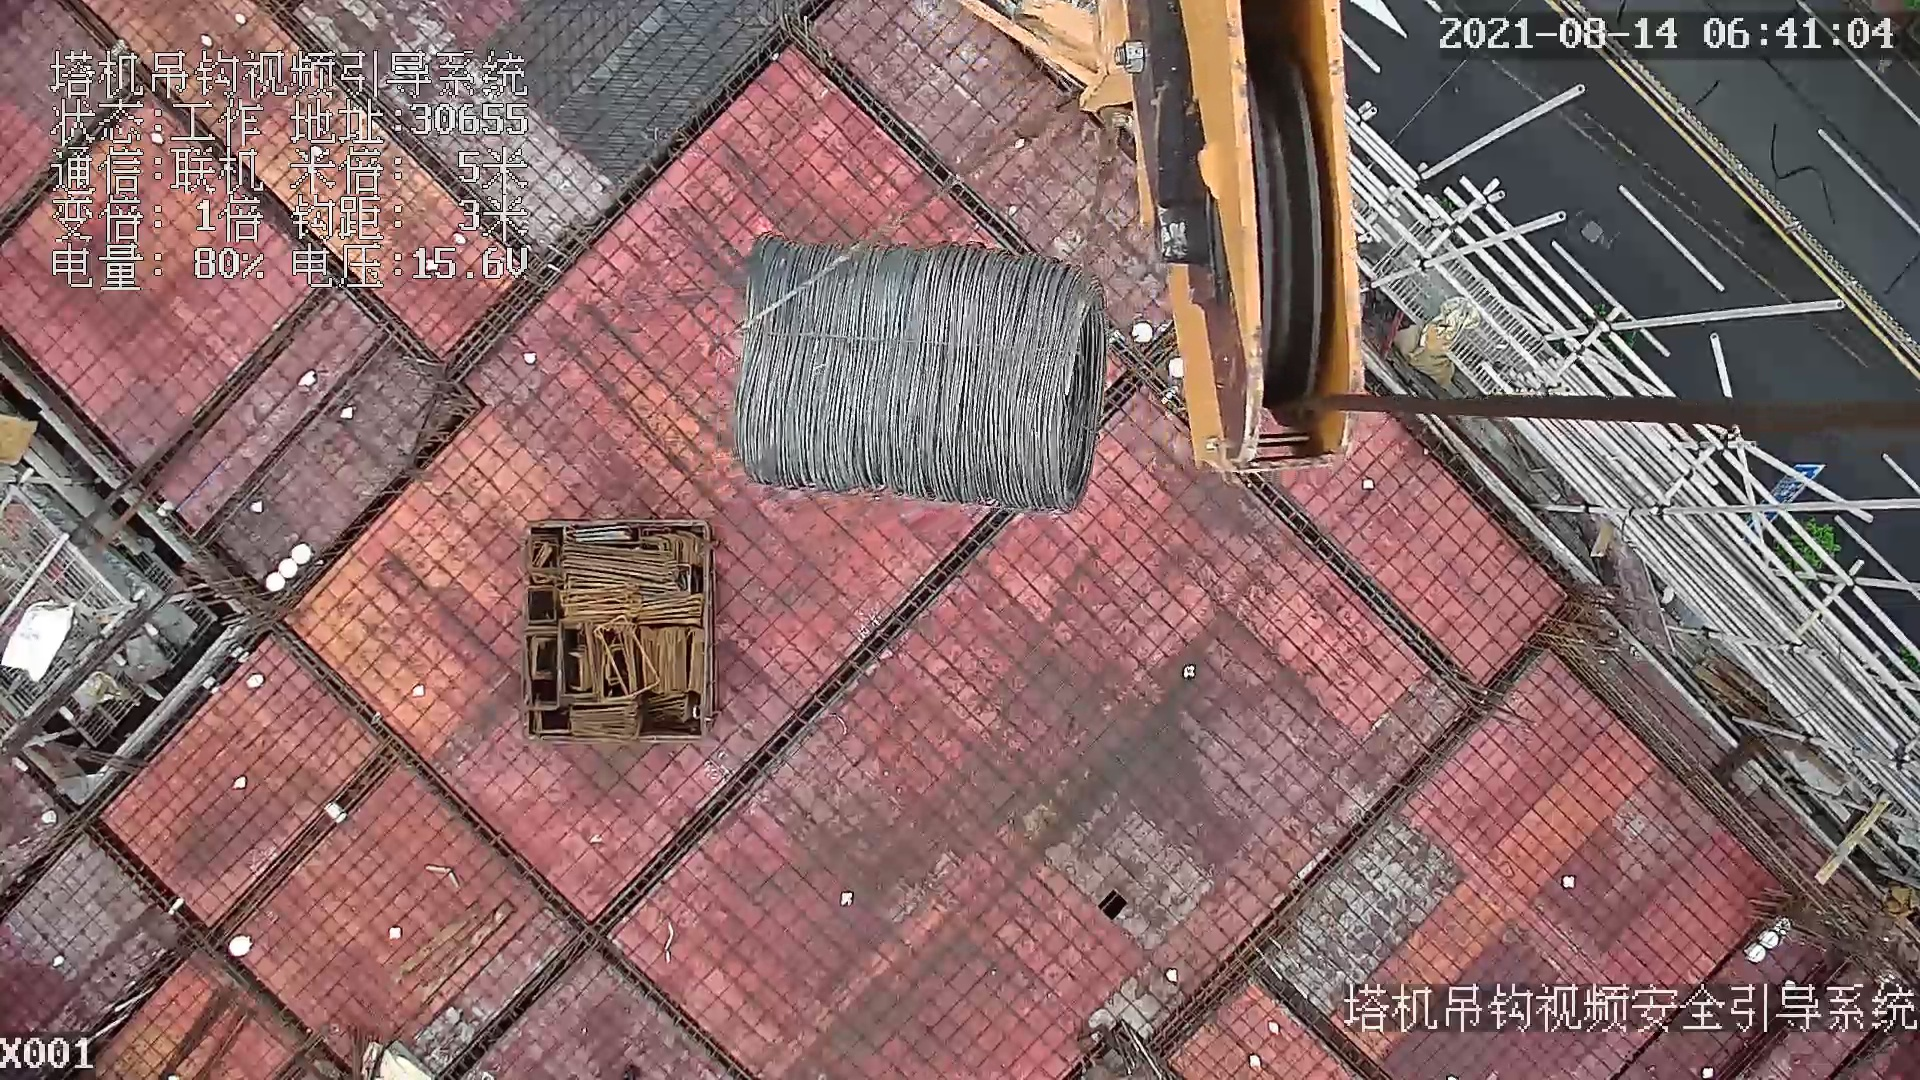hook: (1056, 1, 1370, 465)
